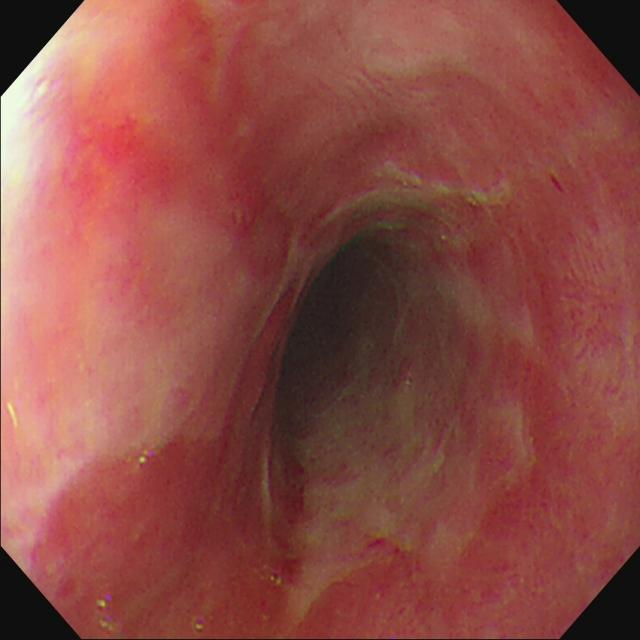A: (35, 436, 305, 640), (452, 400, 640, 640), (488, 187, 640, 396), (307, 539, 452, 640)
